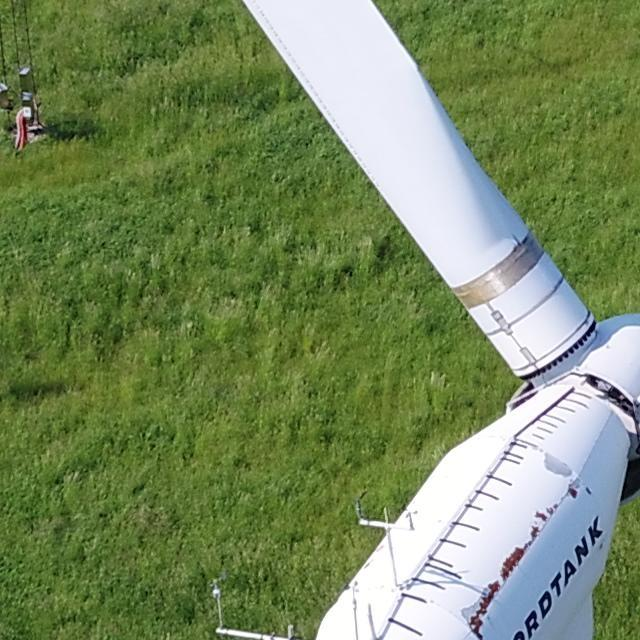damage: (460, 579, 502, 640), (500, 545, 526, 583), (543, 452, 573, 478), (522, 525, 540, 552), (532, 509, 548, 524), (566, 488, 580, 502), (584, 485, 593, 495), (545, 507, 555, 515), (552, 503, 559, 511)
